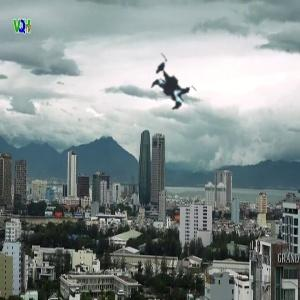drone: (125, 40, 220, 135)
